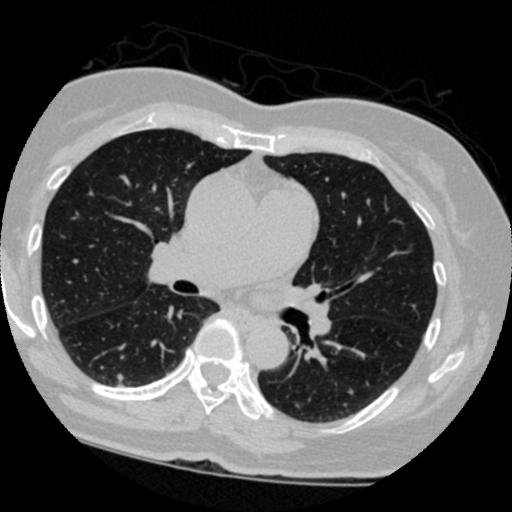nodule: (113, 369, 128, 384)
